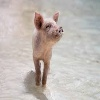heo: (29, 8, 65, 86)
